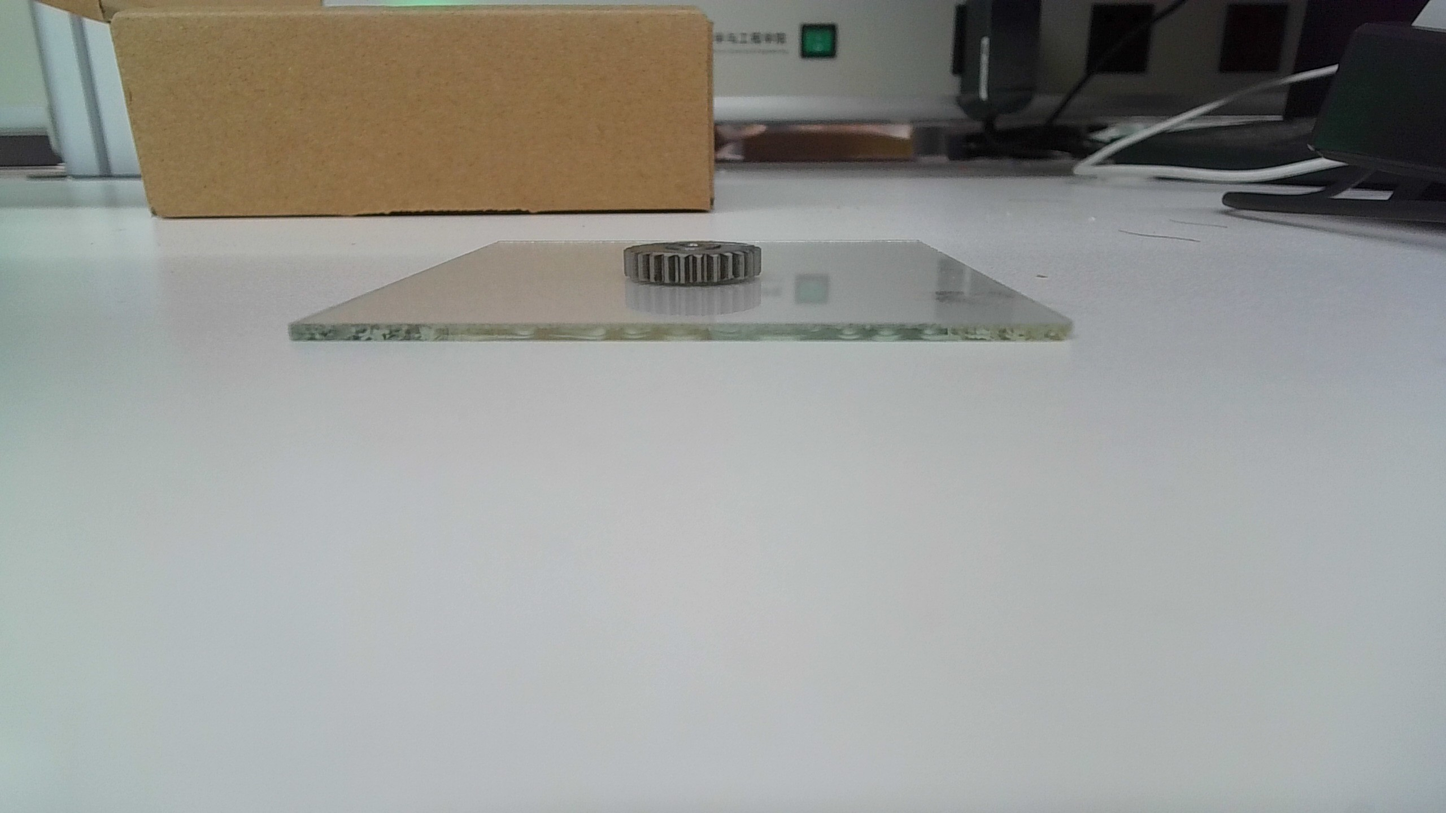gear: (621, 239, 765, 290)
